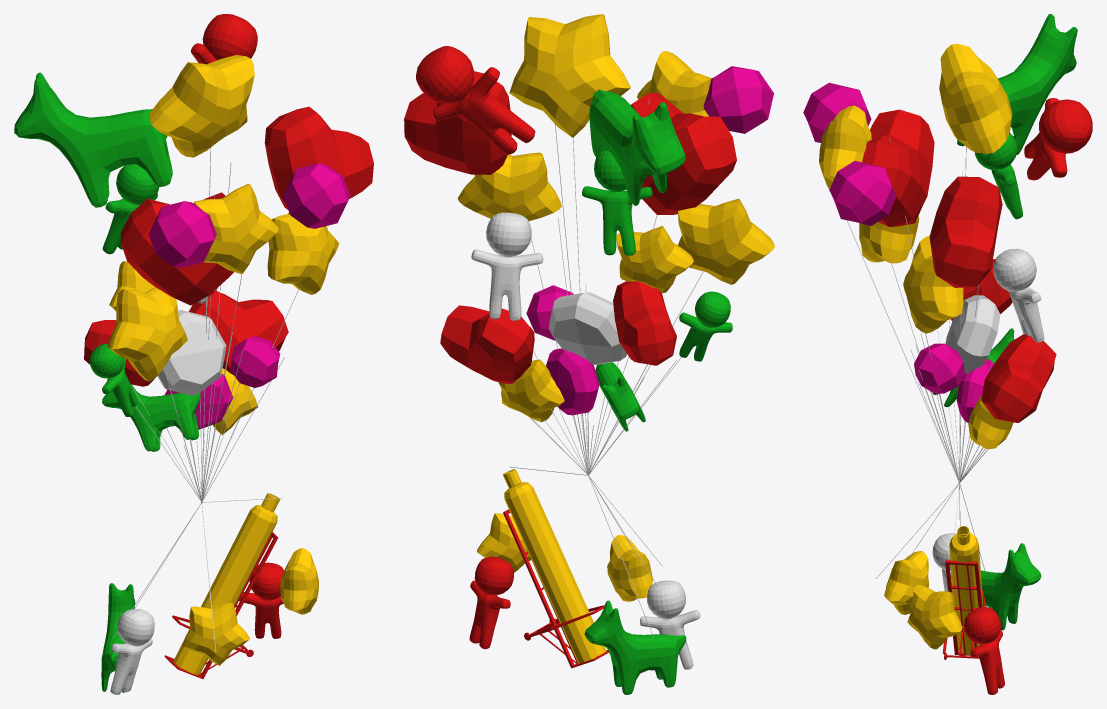
File: Globos.fbx
The picture shows the model from 3 angles, left to right: view 1: azimuth 30°, elevation 25°; view 2: azimuth 150°, elevation 25°; view 3: azimuth 270°, elevation 25°; orthographic projection. The views are drawn at different scales.
Visible parts, largest first — view 1: Object_48, Object_40, Object_52, Object_44, Object_41; view 2: Object_48, Object_40, Object_52, Object_41, Object_44; view 3: Object_40, Object_48, Object_52, Object_41, Object_44.
Part boxes in pixels (x1,y1,x2,y2): Object_48: [107, 55, 339, 674]; Object_40: [84, 14, 373, 678]; Object_52: [14, 72, 200, 692]; Object_44: [148, 163, 350, 429]; Object_41: [110, 147, 299, 694]; Object_48: [457, 14, 774, 663]; Object_40: [404, 46, 736, 668]; Object_52: [582, 89, 732, 694]; Object_41: [471, 99, 703, 669]; Object_44: [526, 66, 773, 415]; Object_40: [862, 98, 1092, 694]; Object_48: [819, 44, 1013, 654]; Object_52: [932, 14, 1077, 630]; Object_41: [847, 137, 1044, 593]; Object_44: [803, 82, 994, 422].
Bounding box in the file's own units: 227 × 434 × 188.
